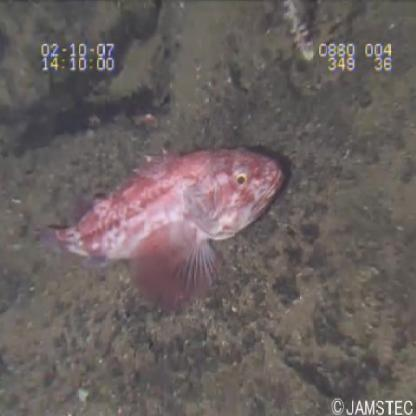Bio: (35, 142, 290, 328)
